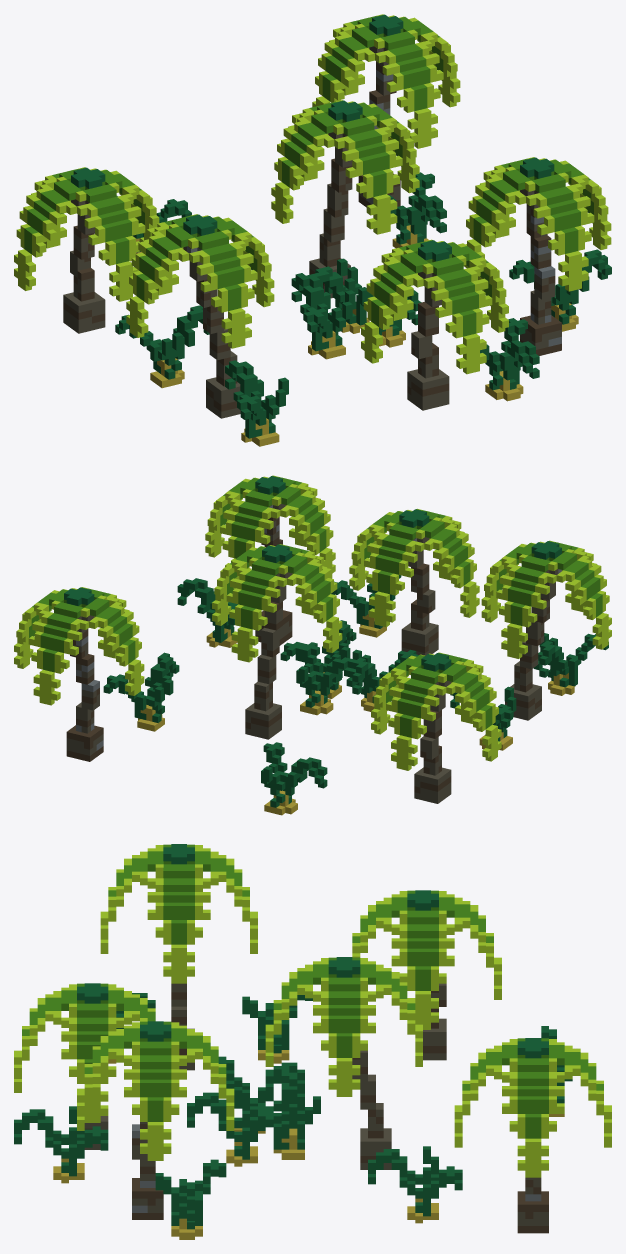
File: palms_3_overtile.obj
3 views of the same model, one above another, from view 1: azimuth 30°, elevation 25°; view 2: azimuth 150°, elevation 25°; view 3: azimuth 270°, elevation 25° (orthographic). The views are drawn at different scales.
Bounding box in the file's own units: 7.4 × 2.8 × 7.6.
Materials: 1 (1 with a texture image).
